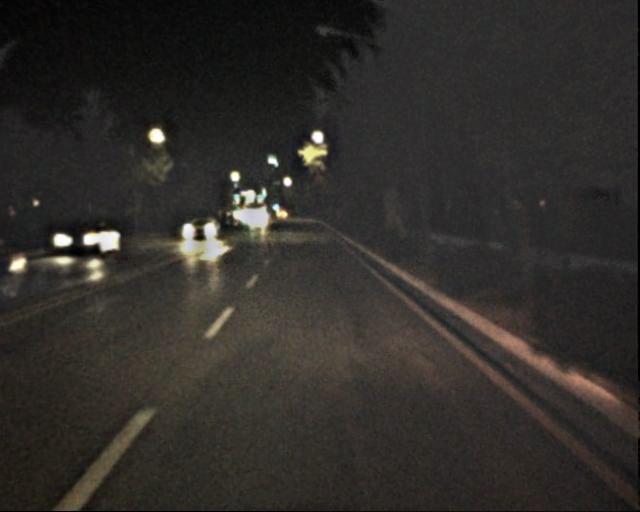person: (486, 205, 509, 266)
